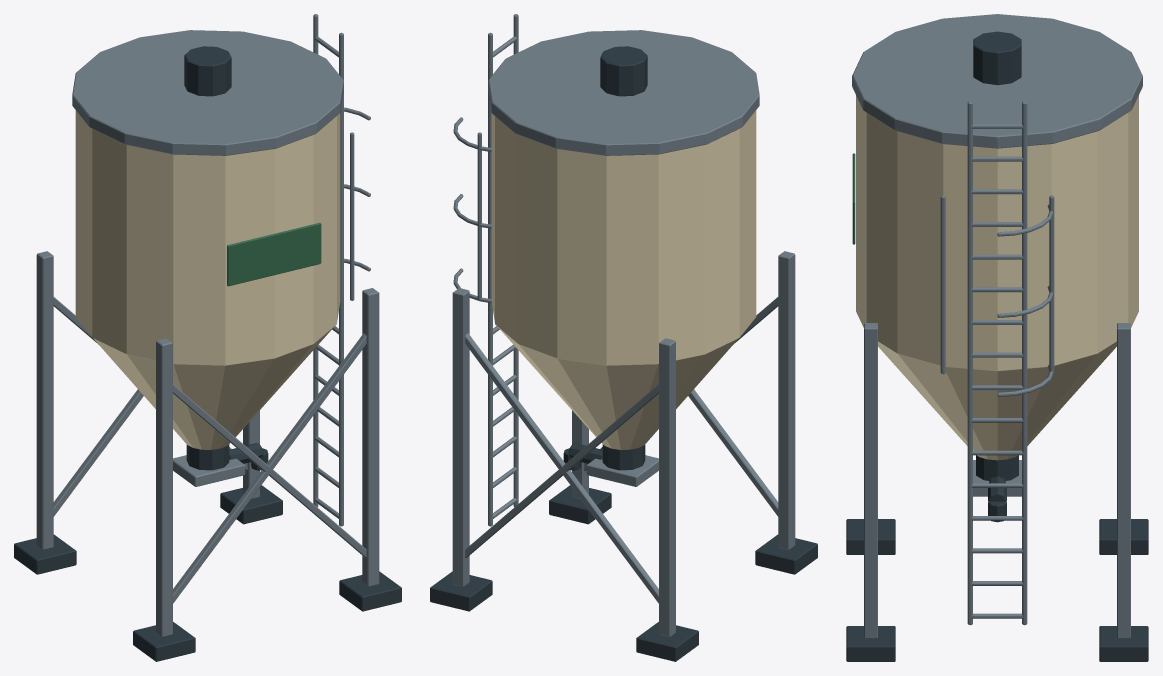
File: b07_portable_cement_storage_silo.glb
3 renders of one model, left to right at view 1: azimuth 30°, elevation 25°; view 2: azimuth 150°, elevation 25°; view 3: azimuth 270°, elevation 25°, orthographic. The views are drawn at different scales.
Visible parts, largest first — view 1: b07_portable_cement_storage_silo; view 2: b07_portable_cement_storage_silo; view 3: b07_portable_cement_storage_silo.
Boxes of the visible parts, left/top/right/bottom form: b07_portable_cement_storage_silo: left=14, top=14, right=401, bottom=661; b07_portable_cement_storage_silo: left=430, top=14, right=817, bottom=661; b07_portable_cement_storage_silo: left=846, top=14, right=1148, bottom=661.
Size of the model in its own units: 2.78 by 4.88 by 2.39.
